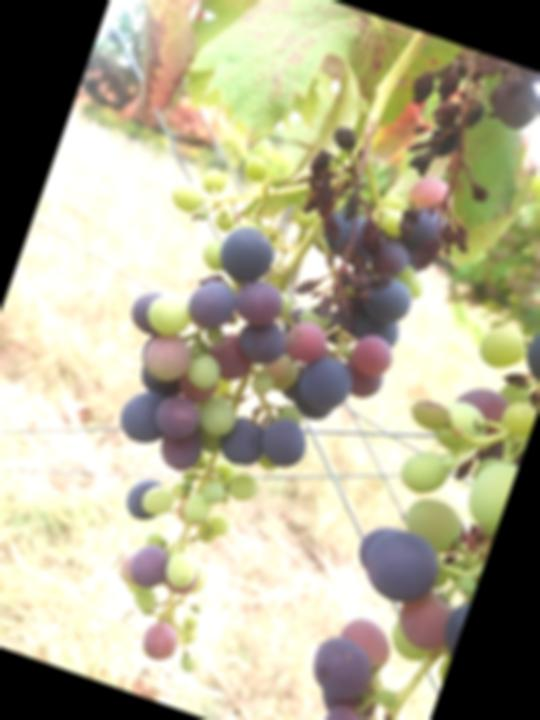grape: (21, 81, 467, 708), (355, 39, 540, 296)
